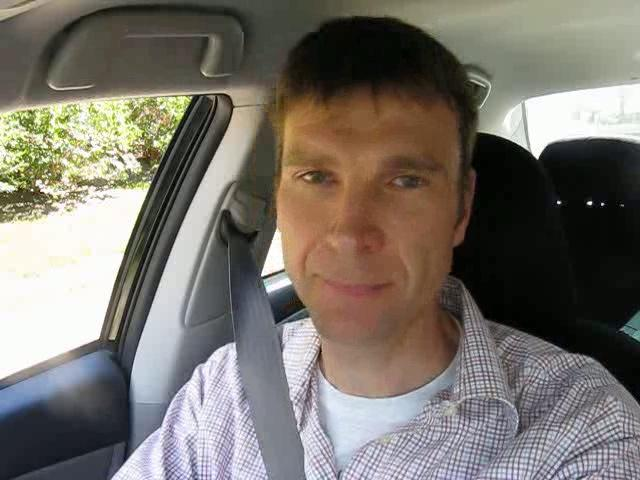no_yawn: (298, 262, 407, 316)
open_eyeL: (282, 159, 349, 199)
open_eyeR: (375, 163, 443, 199)
